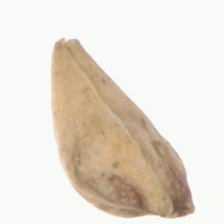L1: (147, 205, 198, 219), (49, 37, 85, 53)
L2: (50, 37, 196, 219)
